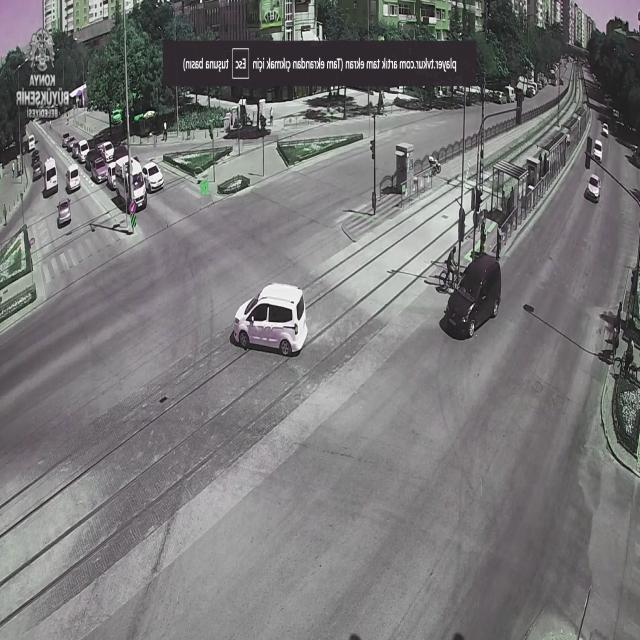Car: (232, 282, 308, 356), (441, 255, 502, 337), (141, 161, 164, 192), (90, 155, 109, 183), (106, 161, 122, 190), (585, 174, 601, 202), (74, 139, 91, 163), (66, 164, 80, 192), (57, 199, 71, 226), (64, 136, 78, 154), (592, 139, 603, 161), (32, 160, 43, 181), (28, 134, 36, 152), (62, 133, 72, 147), (602, 123, 609, 137)
Truck: (96, 140, 115, 163)
Van: (114, 159, 147, 209), (44, 157, 58, 193)
